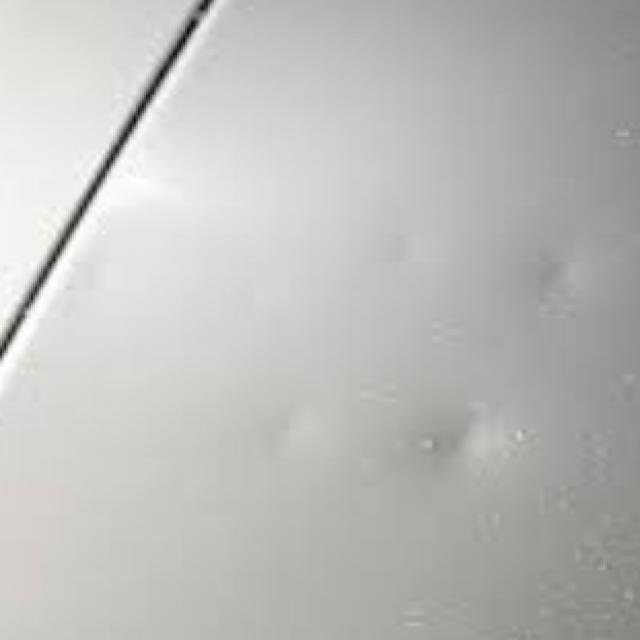dents: (424, 404, 551, 510), (509, 245, 610, 333), (236, 383, 298, 487), (357, 226, 445, 297)
